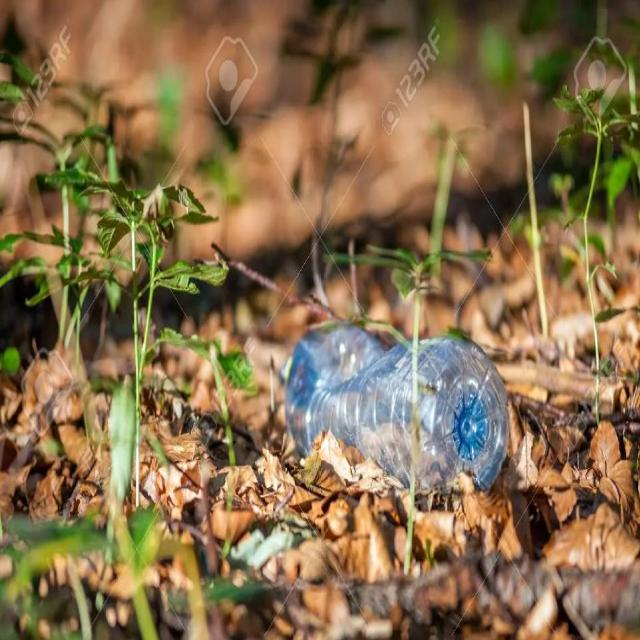bottle: (272, 294, 526, 532)
